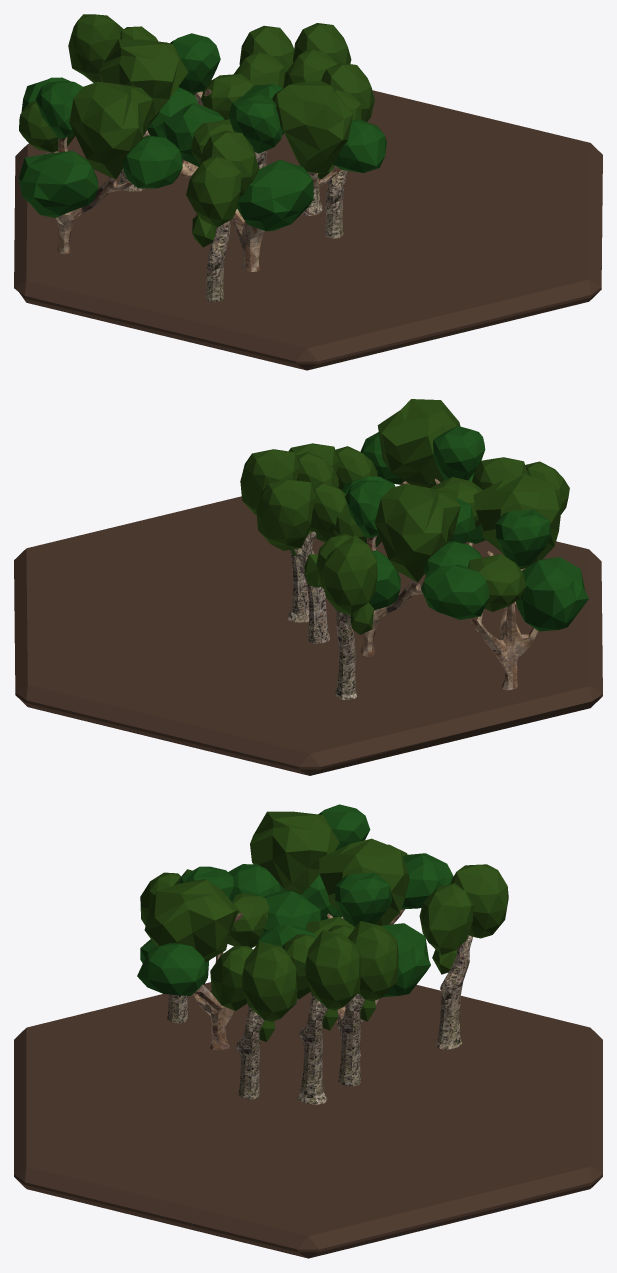
Rendered from hexagonWald.fbx.
3 views of the same model, one above another, from view 1: azimuth 30°, elevation 25°; view 2: azimuth 150°, elevation 25°; view 3: azimuth 270°, elevation 25° (orthographic).
Parts seen in each view (by area): view 1: Cylinder.001; view 2: Cylinder.001; view 3: Cylinder.001.
Part boxes in pixels (left/top/right/bottom): Cylinder.001: left=14, top=14, right=602, bottom=370; Cylinder.001: left=14, top=399, right=602, bottom=775; Cylinder.001: left=14, top=804, right=602, bottom=1258.
Bounding box in the file's own units: 115 × 38.68 × 100.
Materials: 20 (20 with a texture image).
